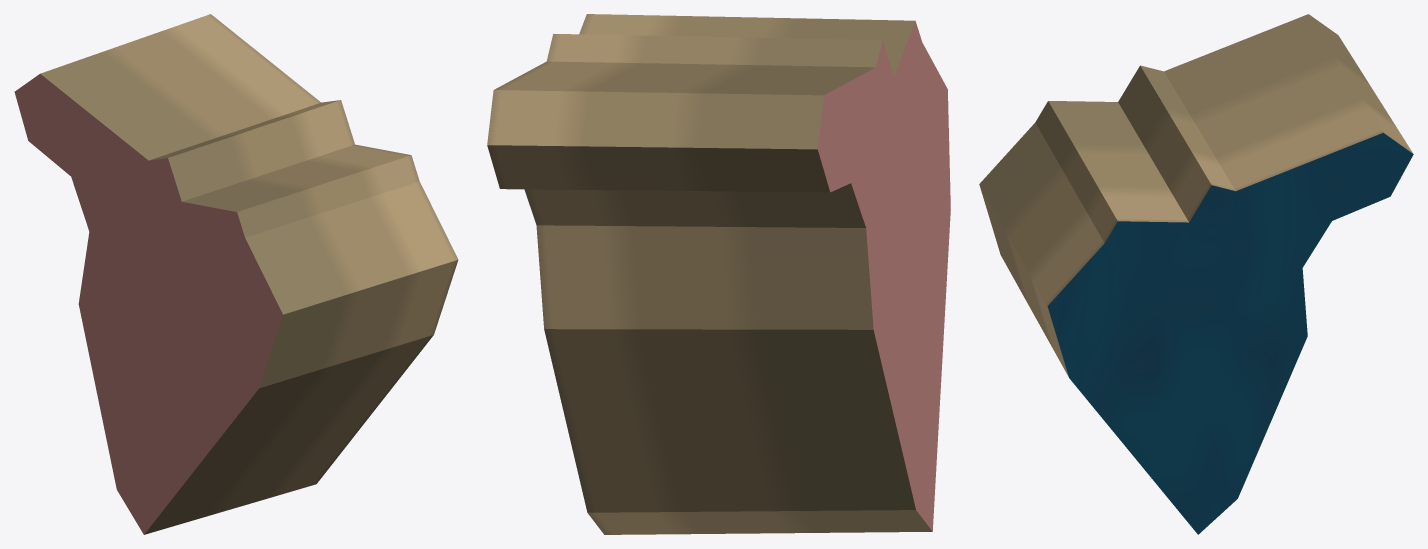
File: 05f1_Honduras.glb
The picture shows the model from 3 angles, left to right: view 1: azimuth 30°, elevation 25°; view 2: azimuth 150°, elevation 25°; view 3: azimuth 270°, elevation 25°; orthographic projection. The views are drawn at different scales.
Visible parts, largest first — view 1: part_0; view 2: part_0; view 3: part_0.
Part boxes in pixels (bbox=[...]): part_0: bbox=[14, 14, 458, 534]; part_0: bbox=[487, 14, 950, 534]; part_0: bbox=[979, 14, 1413, 534].
Bounding box in the file's own units: 0.2695 × 0.3683 × 0.3491.
1 material, 1 textured.
